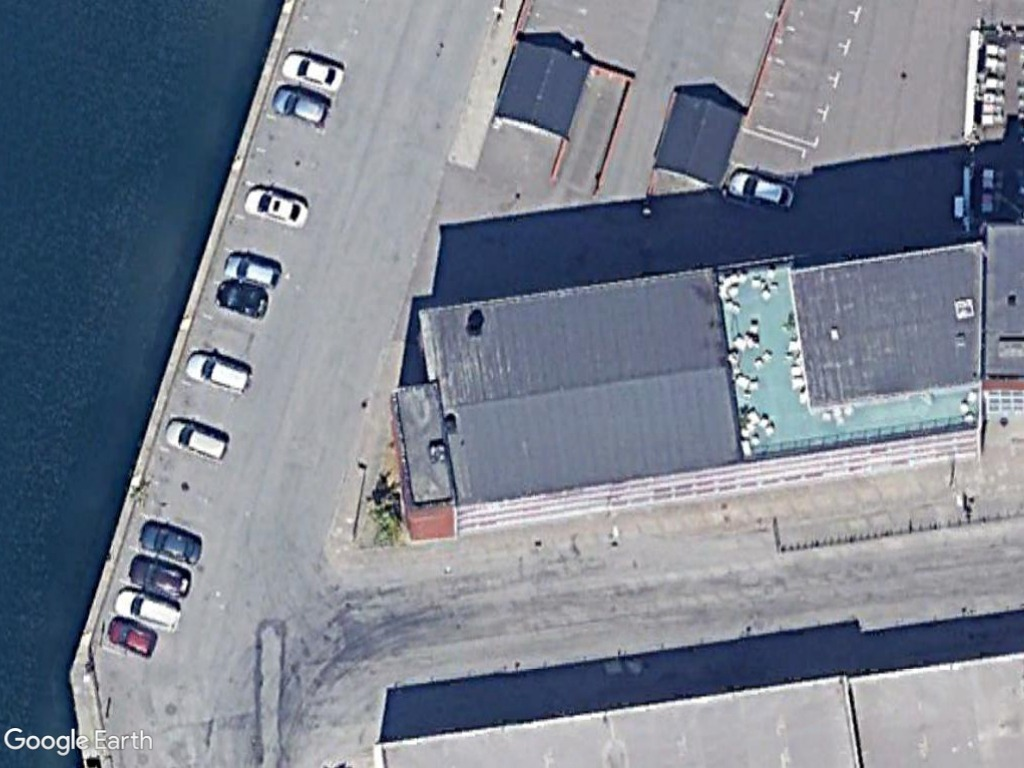car: (111, 587, 190, 639), (123, 547, 195, 604), (724, 164, 800, 216), (240, 180, 314, 233), (273, 45, 349, 96), (136, 515, 206, 568), (182, 349, 255, 399), (163, 414, 232, 465), (219, 247, 283, 293), (210, 277, 275, 322), (271, 83, 335, 128), (103, 617, 164, 661)
